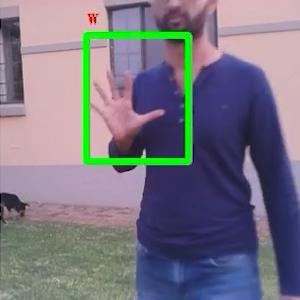follow_hand: (83, 64, 166, 145)
